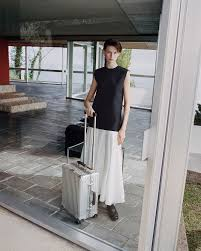suitcase: (58, 111, 103, 226)
